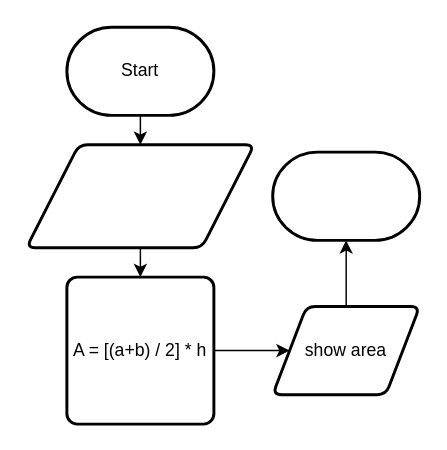
The diagram is 447 pixels wide and 450 high, and some of its shapes have lost their labels. Here are the shapes that lost their labels. From the top down, the box of each, then its label:
(24, 143, 255, 248): get sideA, sideB, and height from URL
(270, 150, 420, 241): Stop
